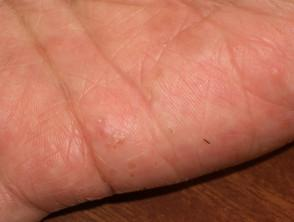Eczema: (89, 112, 132, 153), (123, 158, 146, 181), (163, 121, 184, 140), (266, 61, 285, 81), (107, 165, 121, 180)
